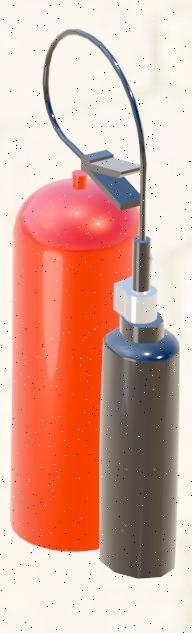Fire Extinguisher: (5, 15, 192, 610)
